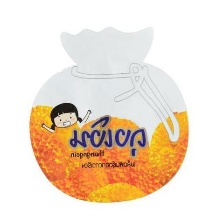snack: (23, 19, 198, 208)
